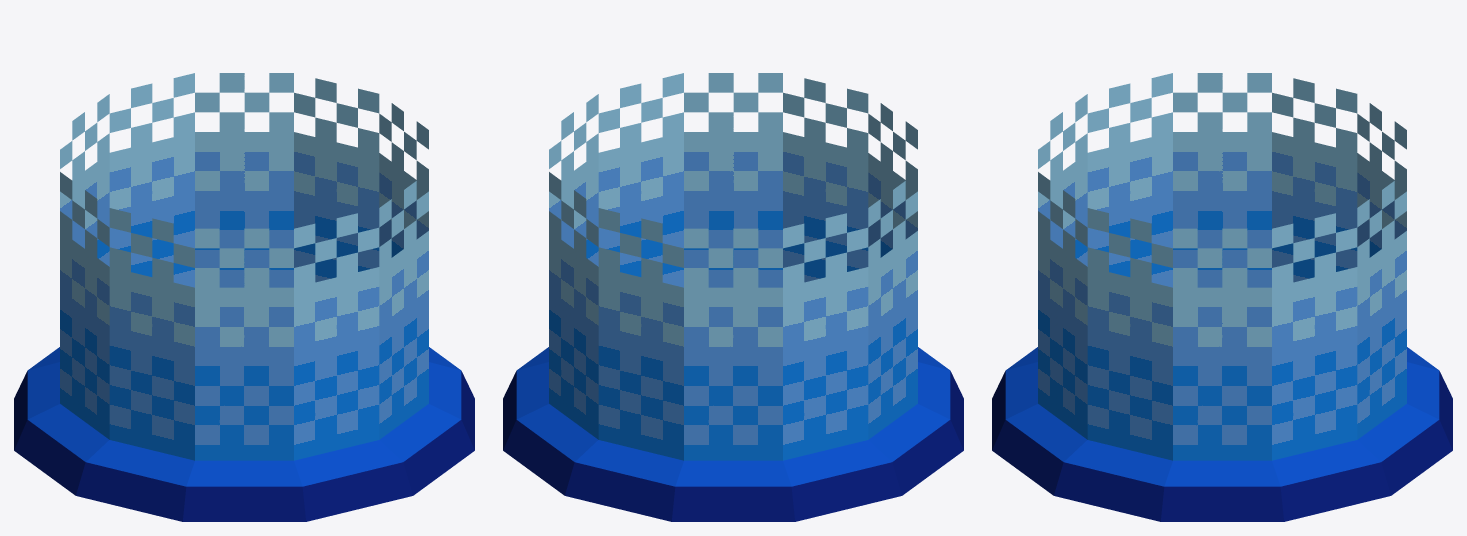
The model's file is GroundTarget.fbx.
3 renders of one model, left to right at view 1: azimuth 30°, elevation 25°; view 2: azimuth 150°, elevation 25°; view 3: azimuth 270°, elevation 25°, orthographic.
Parts seen in each view (by area): view 1: cylinder, torus; view 2: cylinder, torus; view 3: cylinder, torus.
Part boxes in pixels (x1,y1,x2,y2): cylinder: (60, 73, 428, 460); torus: (14, 347, 474, 521); cylinder: (549, 73, 917, 460); torus: (503, 347, 963, 521); cylinder: (1038, 73, 1406, 460); torus: (992, 347, 1452, 521).
Size of the model in its own units: 62.5 by 50 by 62.5.
Materials: 1 (1 with a texture image).
